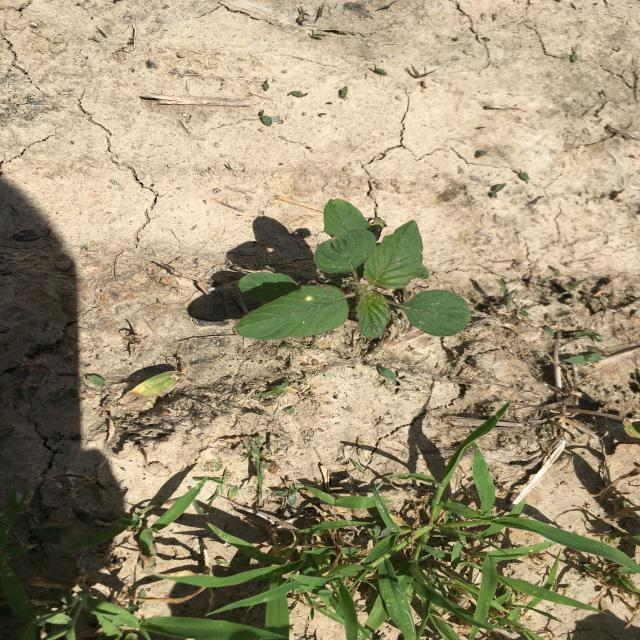PalmerAmaranth: (237, 198, 472, 340)
